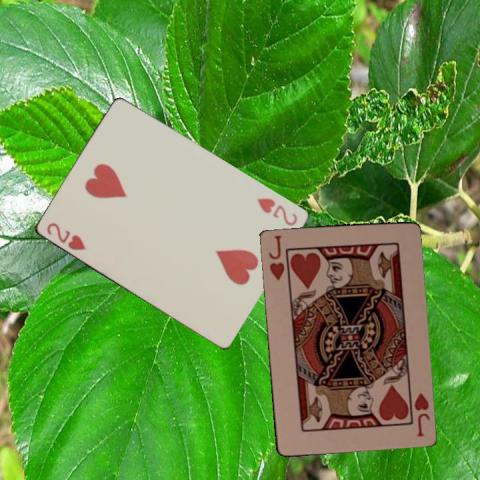2h: (253, 195, 299, 227), (42, 219, 86, 252)
Jh: (410, 389, 431, 438), (265, 232, 285, 281)
